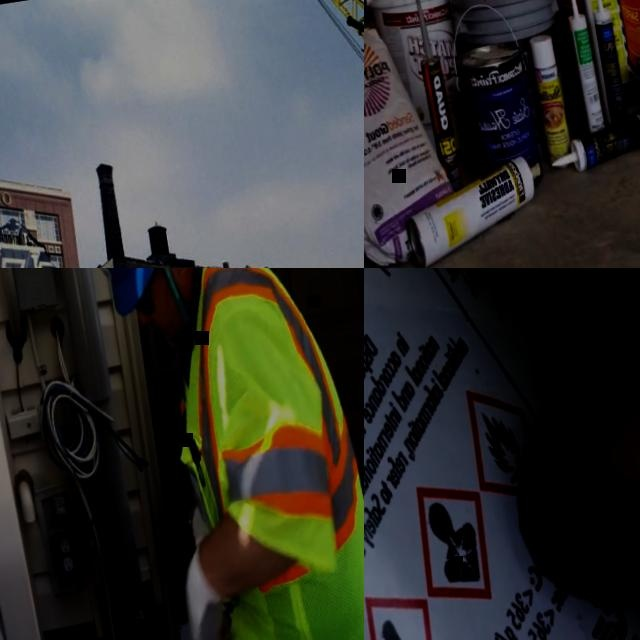Hardhat: (64, 268, 205, 323)
NO-Mask: (149, 297, 188, 360)
Person: (64, 268, 364, 640)
Safety Vest: (142, 268, 364, 640)
